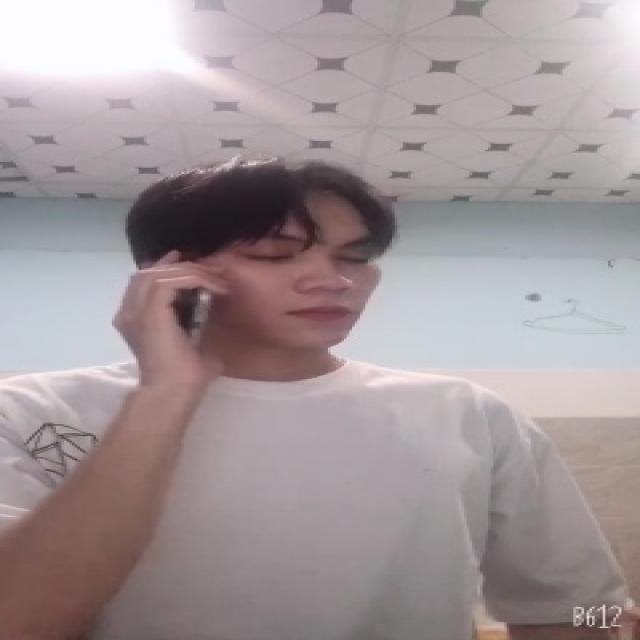Phone: (164, 264, 225, 358)
